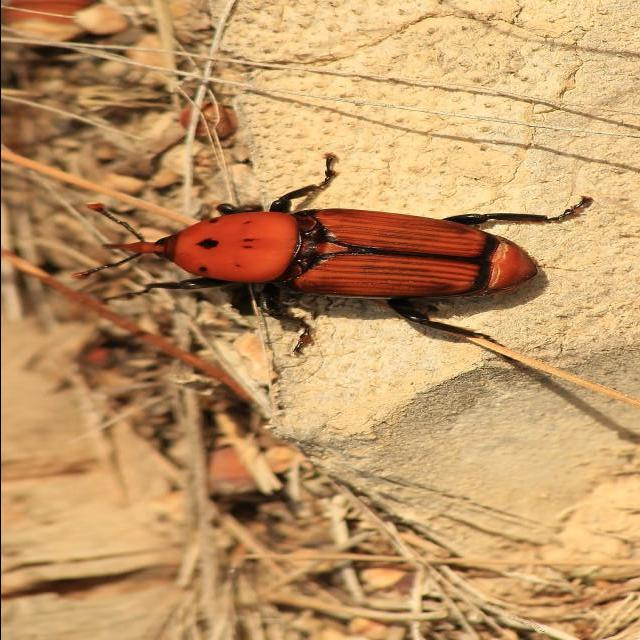Red-palm-weevil: (95, 164, 640, 339)
